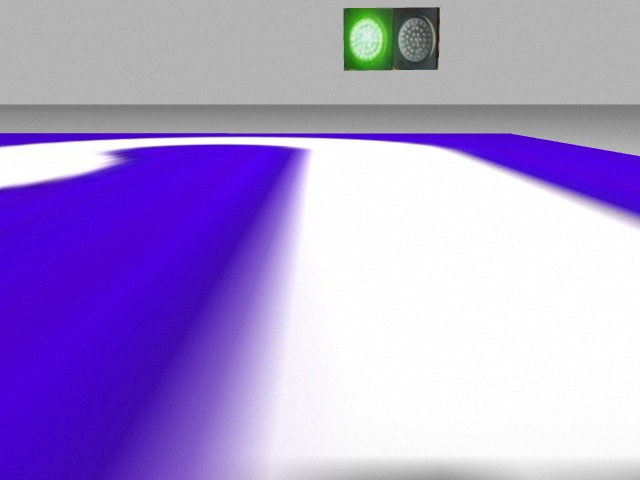green: (343, 9, 391, 70)
